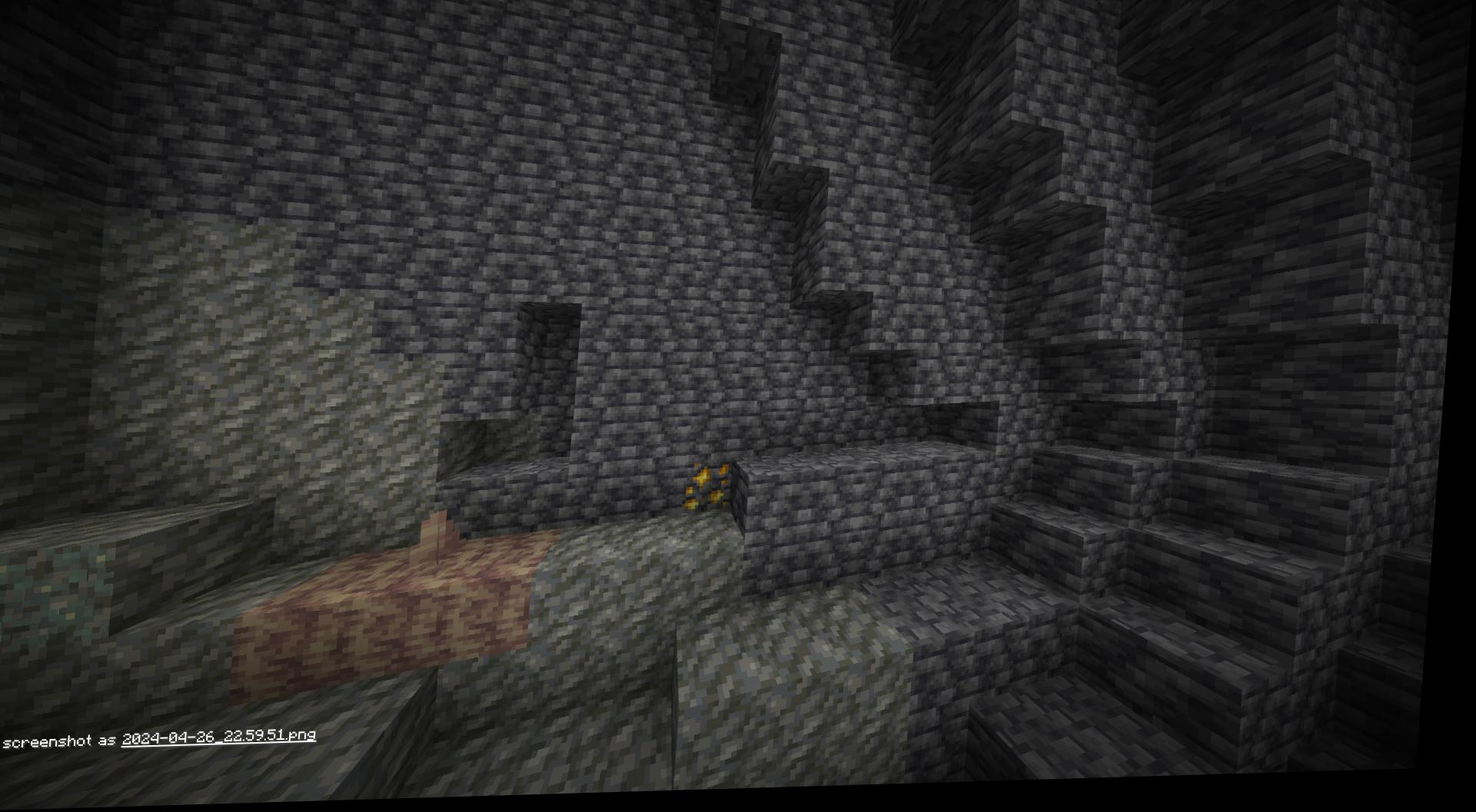gold ore: (693, 463, 743, 513)
